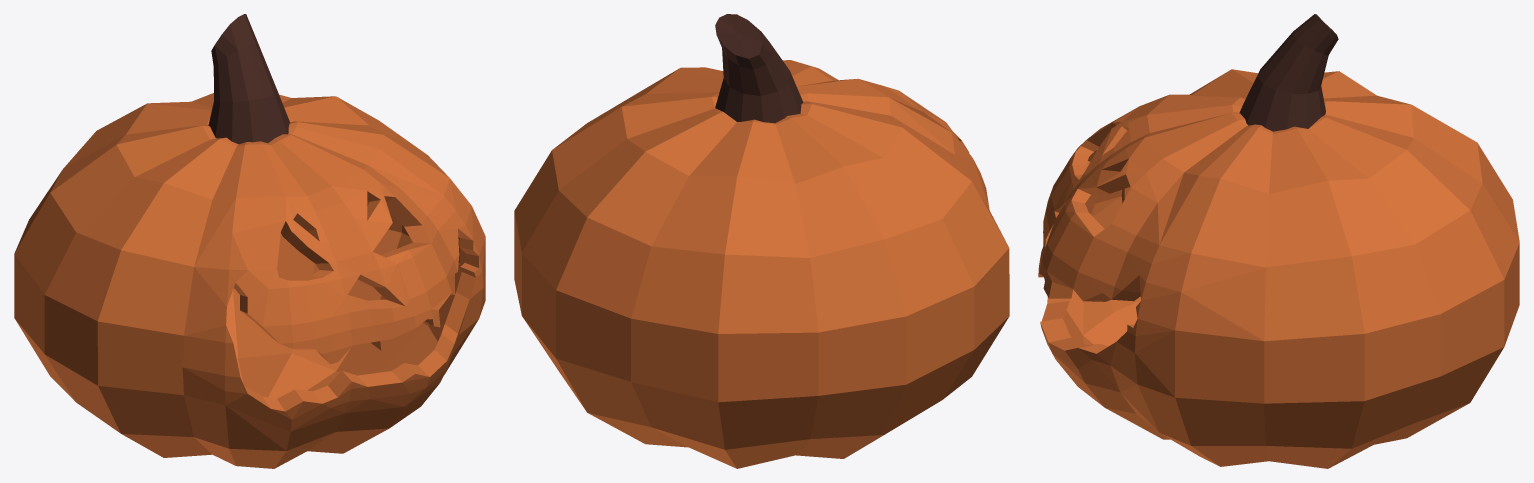
File: Pumpkin.fbx
3 renders of one model, left to right at view 1: azimuth 30°, elevation 25°; view 2: azimuth 150°, elevation 25°; view 3: azimuth 270°, elevation 25°, orthographic. The views are drawn at different scales.
Parts seen in each view (by area): view 1: Pumpkin; view 2: Pumpkin; view 3: Pumpkin.
Part boxes in pixels (x1=…): Pumpkin: x1=14, y1=14, x2=485, y2=468; Pumpkin: x1=514, y1=14, x2=1009, y2=468; Pumpkin: x1=1038, y1=14, x2=1519, y2=468.
Bounding box in the file's own units: 61.01 × 56.64 × 60.
